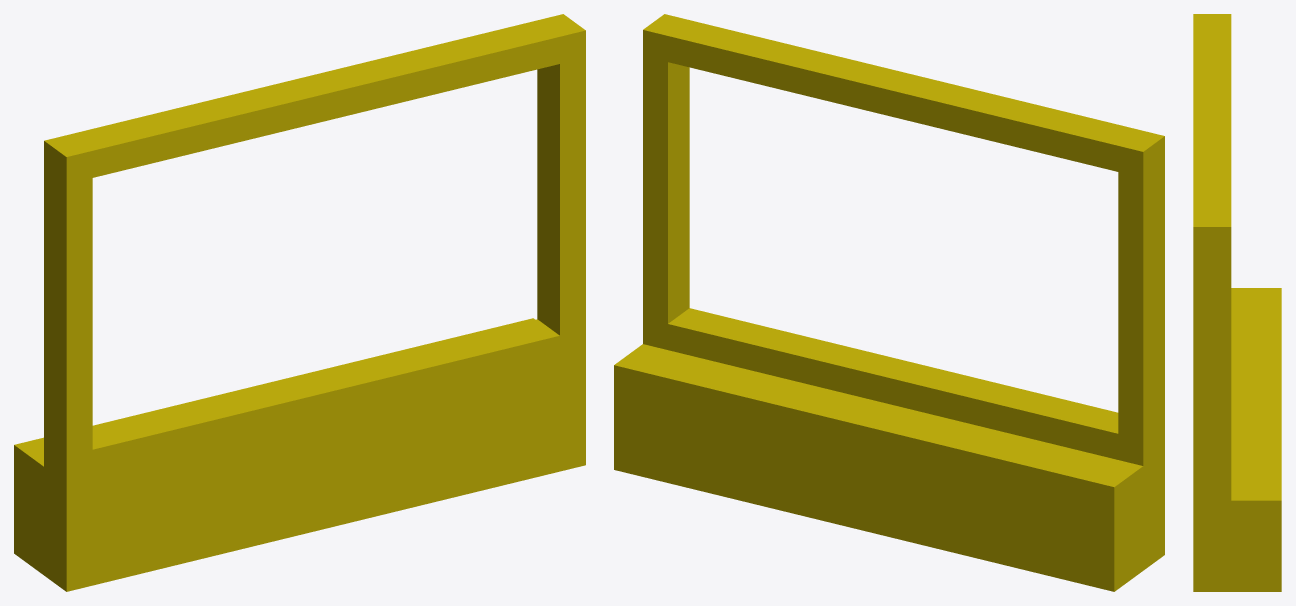
Rendered from door_manual_flush_5x3.dae.
The picture shows the model from 3 angles, left to right: view 1: azimuth 30°, elevation 25°; view 2: azimuth 150°, elevation 25°; view 3: azimuth 270°, elevation 25°; orthographic projection. The views are drawn at different scales.
Parts seen in each view (by area): view 1: Cube; view 2: Cube; view 3: Cube.
Part boxes in pixels (x1,y1,x2,y2): Cube: (14, 14, 585, 591); Cube: (614, 14, 1164, 591); Cube: (1193, 14, 1281, 591).
Bounding box in the file's own units: 1.25 × 0.2188 × 1.
